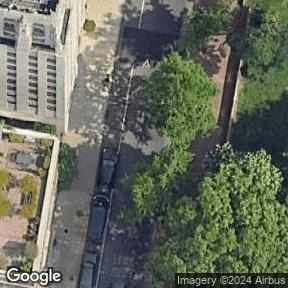vegetation: (59, 144, 76, 189)
